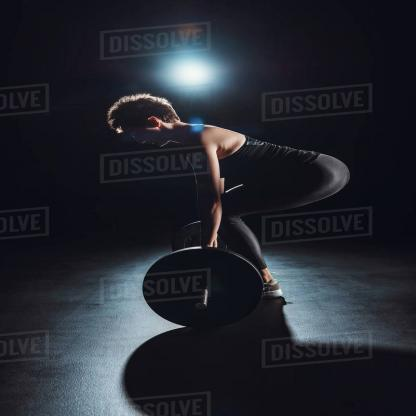barbell: (142, 217, 268, 335)
